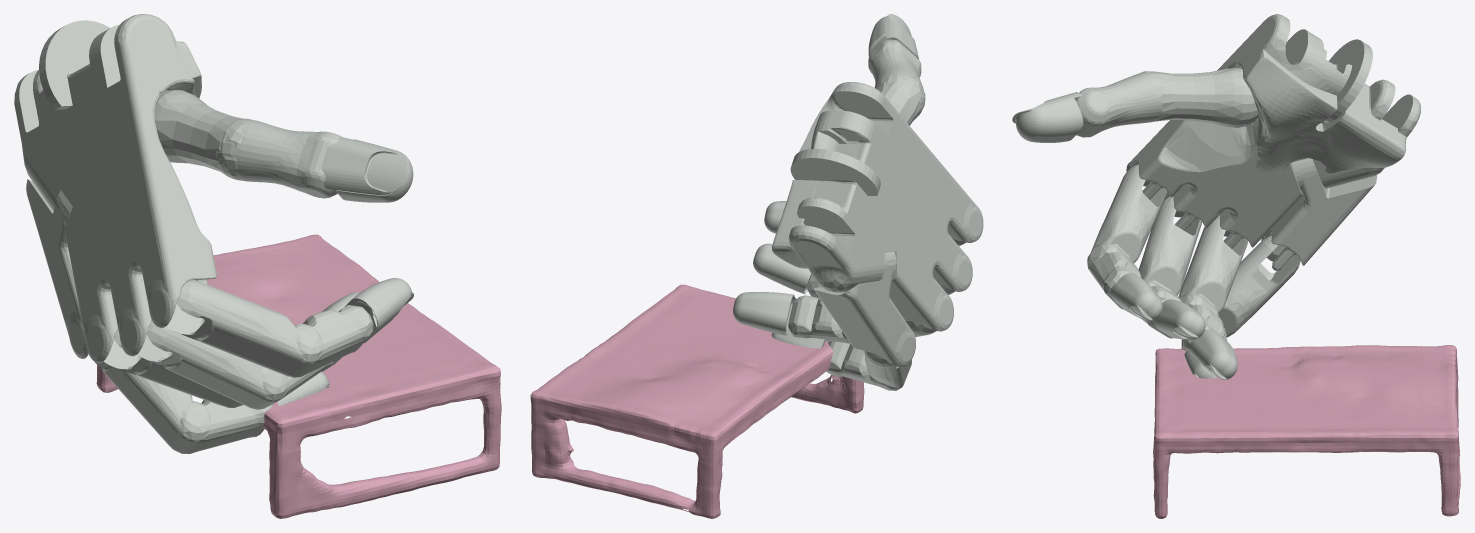
3 views of the same model, side by side, from view 1: azimuth 30°, elevation 25°; view 2: azimuth 150°, elevation 25°; view 3: azimuth 270°, elevation 25° (orthographic). The views are drawn at different scales.
Parts seen in each view (by area): view 1: hand, world; view 2: hand, world; view 3: hand, world.
Boxes of the visible parts, x1,y1,x2,y2 form: hand: (14,14,413,453); world: (96,234,501,518); hand: (733,14,983,390); world: (530,284,864,518); hand: (1012,14,1420,379); world: (1153,345,1460,518).
Size of the model in its own units: 0.1504 by 0.1838 by 0.1927.
